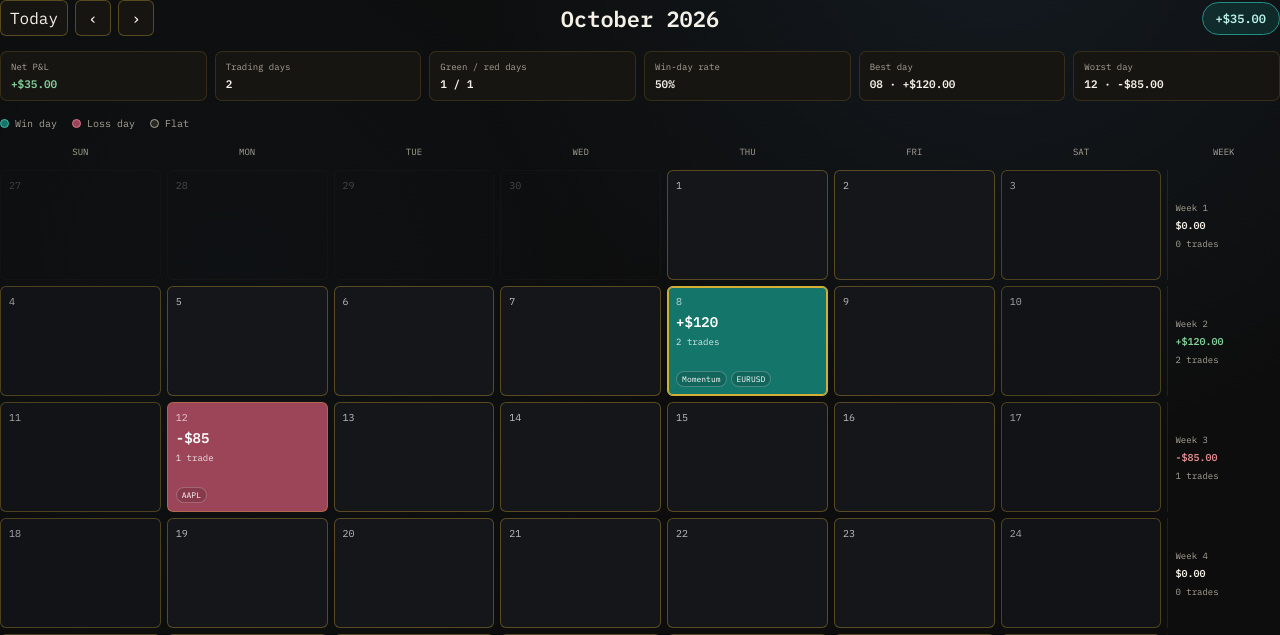
Test: JournalCalendar › opens the selected day's panel with only that day's trades
This screenshot has width=1280, height=635.
Click the cell named "Oct 8, 2 trades, net +$120.00": [748, 341] box [667,286,828,396]
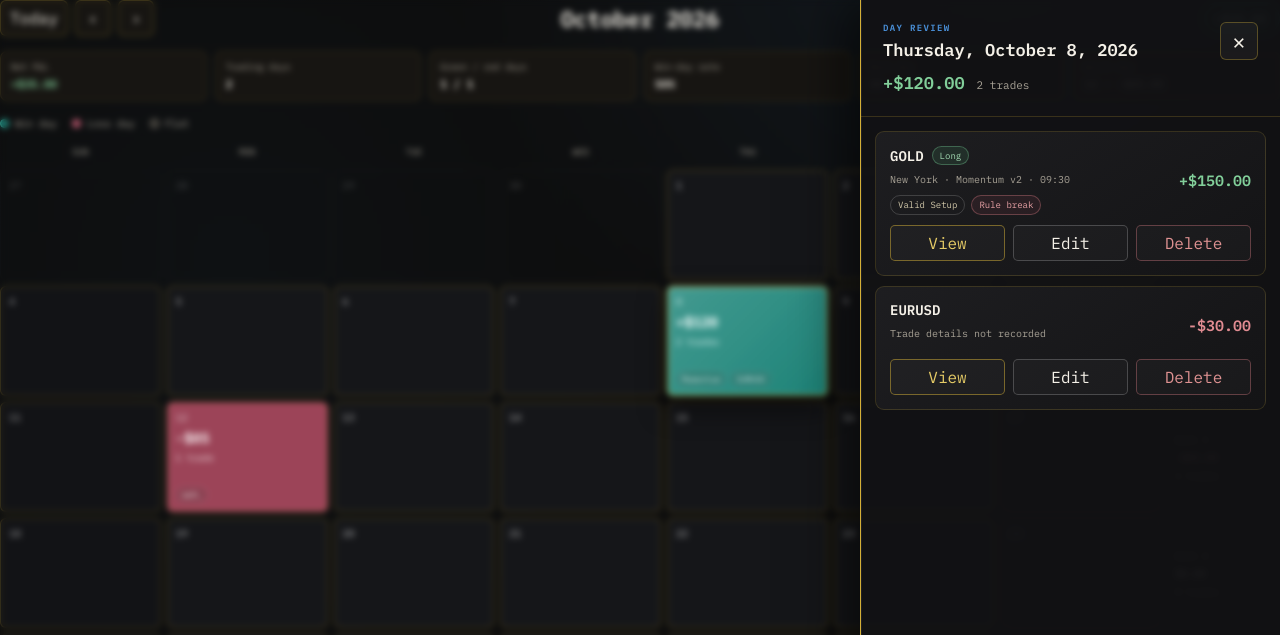
Result: the text "GOLD" is shown at [890,147,924,165]
Result: the text "EURUSD" is shown at [890,301,940,319]
Result: the heading "Thursday, October 8, 2026" is shown at [883,39,1138,63]
